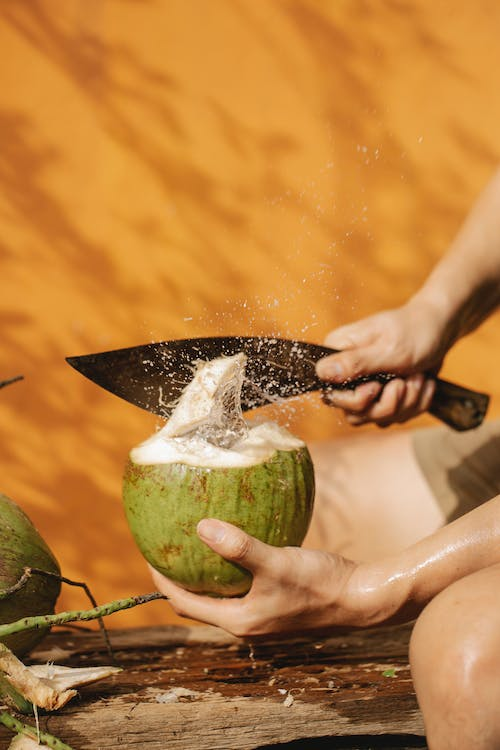knife: (61, 333, 494, 436)
